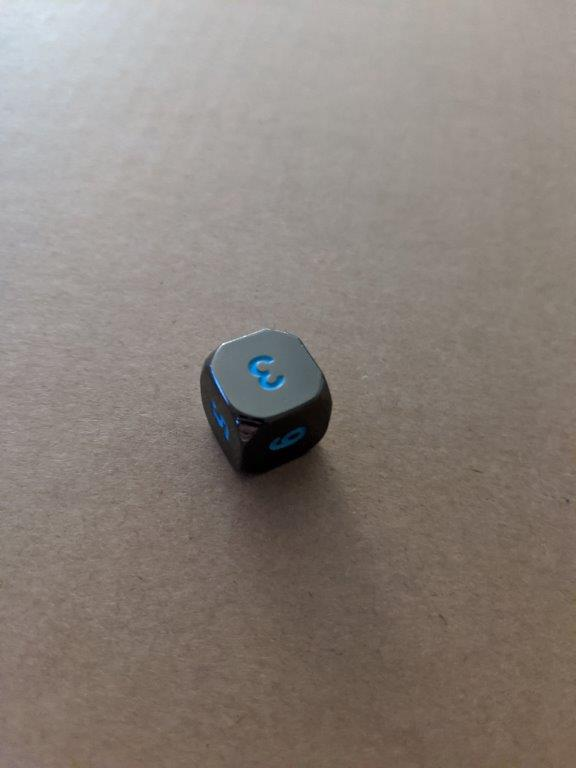d6-3: (200, 327, 334, 480)
